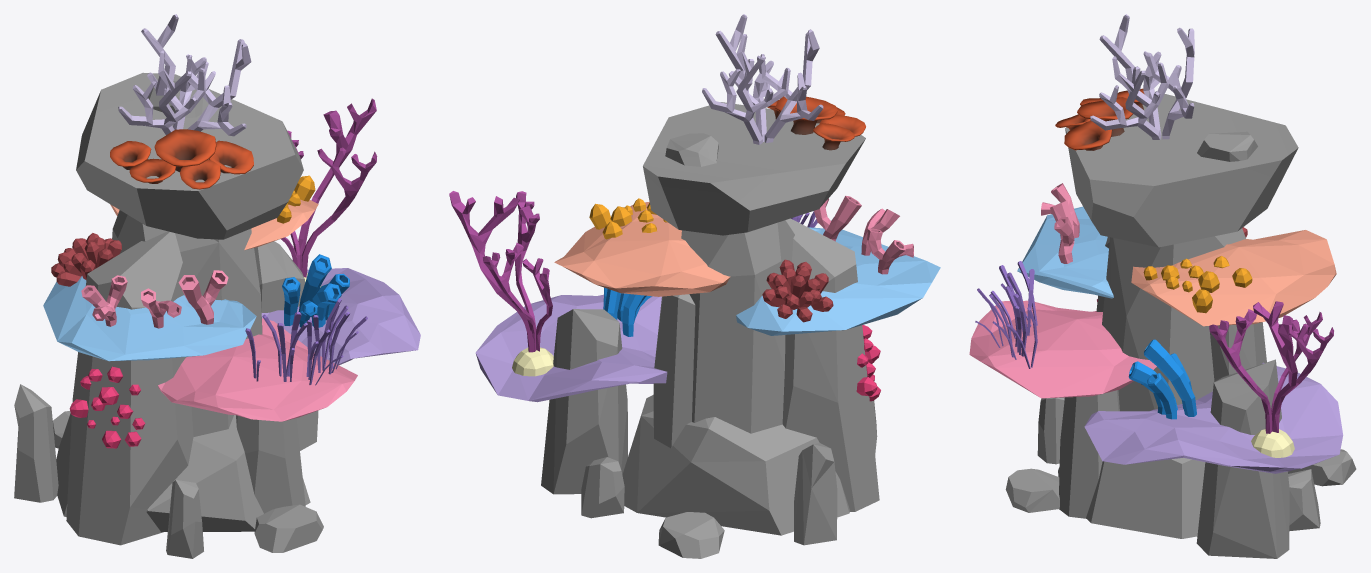
The model's file is Coral_reef_007.glb.
The picture shows the model from 3 angles, left to right: view 1: azimuth 30°, elevation 25°; view 2: azimuth 150°, elevation 25°; view 3: azimuth 270°, elevation 25°; orthographic projection. The views are drawn at different scales.
Parts seen in each view (by area): view 1: Coral_reef_007; view 2: Coral_reef_007; view 3: Coral_reef_007.
Part boxes in pixels (x1,y1,x2,y2): Coral_reef_007: (14,14,420,558); Coral_reef_007: (449,14,940,558); Coral_reef_007: (969,14,1356,558).
Size of the model in its own units: 3.61 by 4.05 by 3.12.
1 material, 1 textured.
